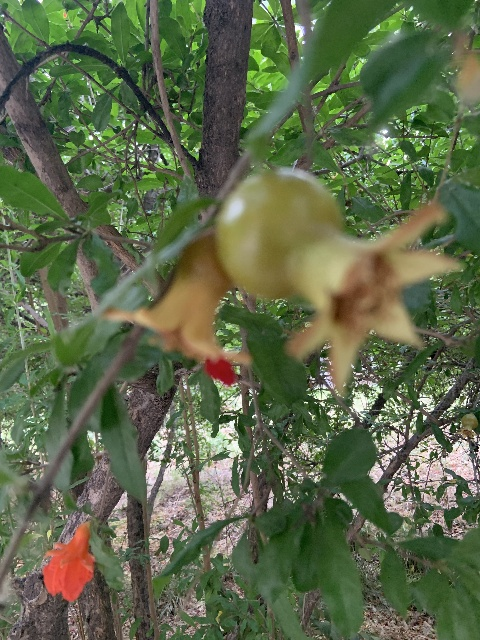early-fruit: (102, 229, 251, 386), (457, 413, 479, 440)
flower: (42, 522, 95, 602)
mid-growth: (216, 169, 464, 396)
